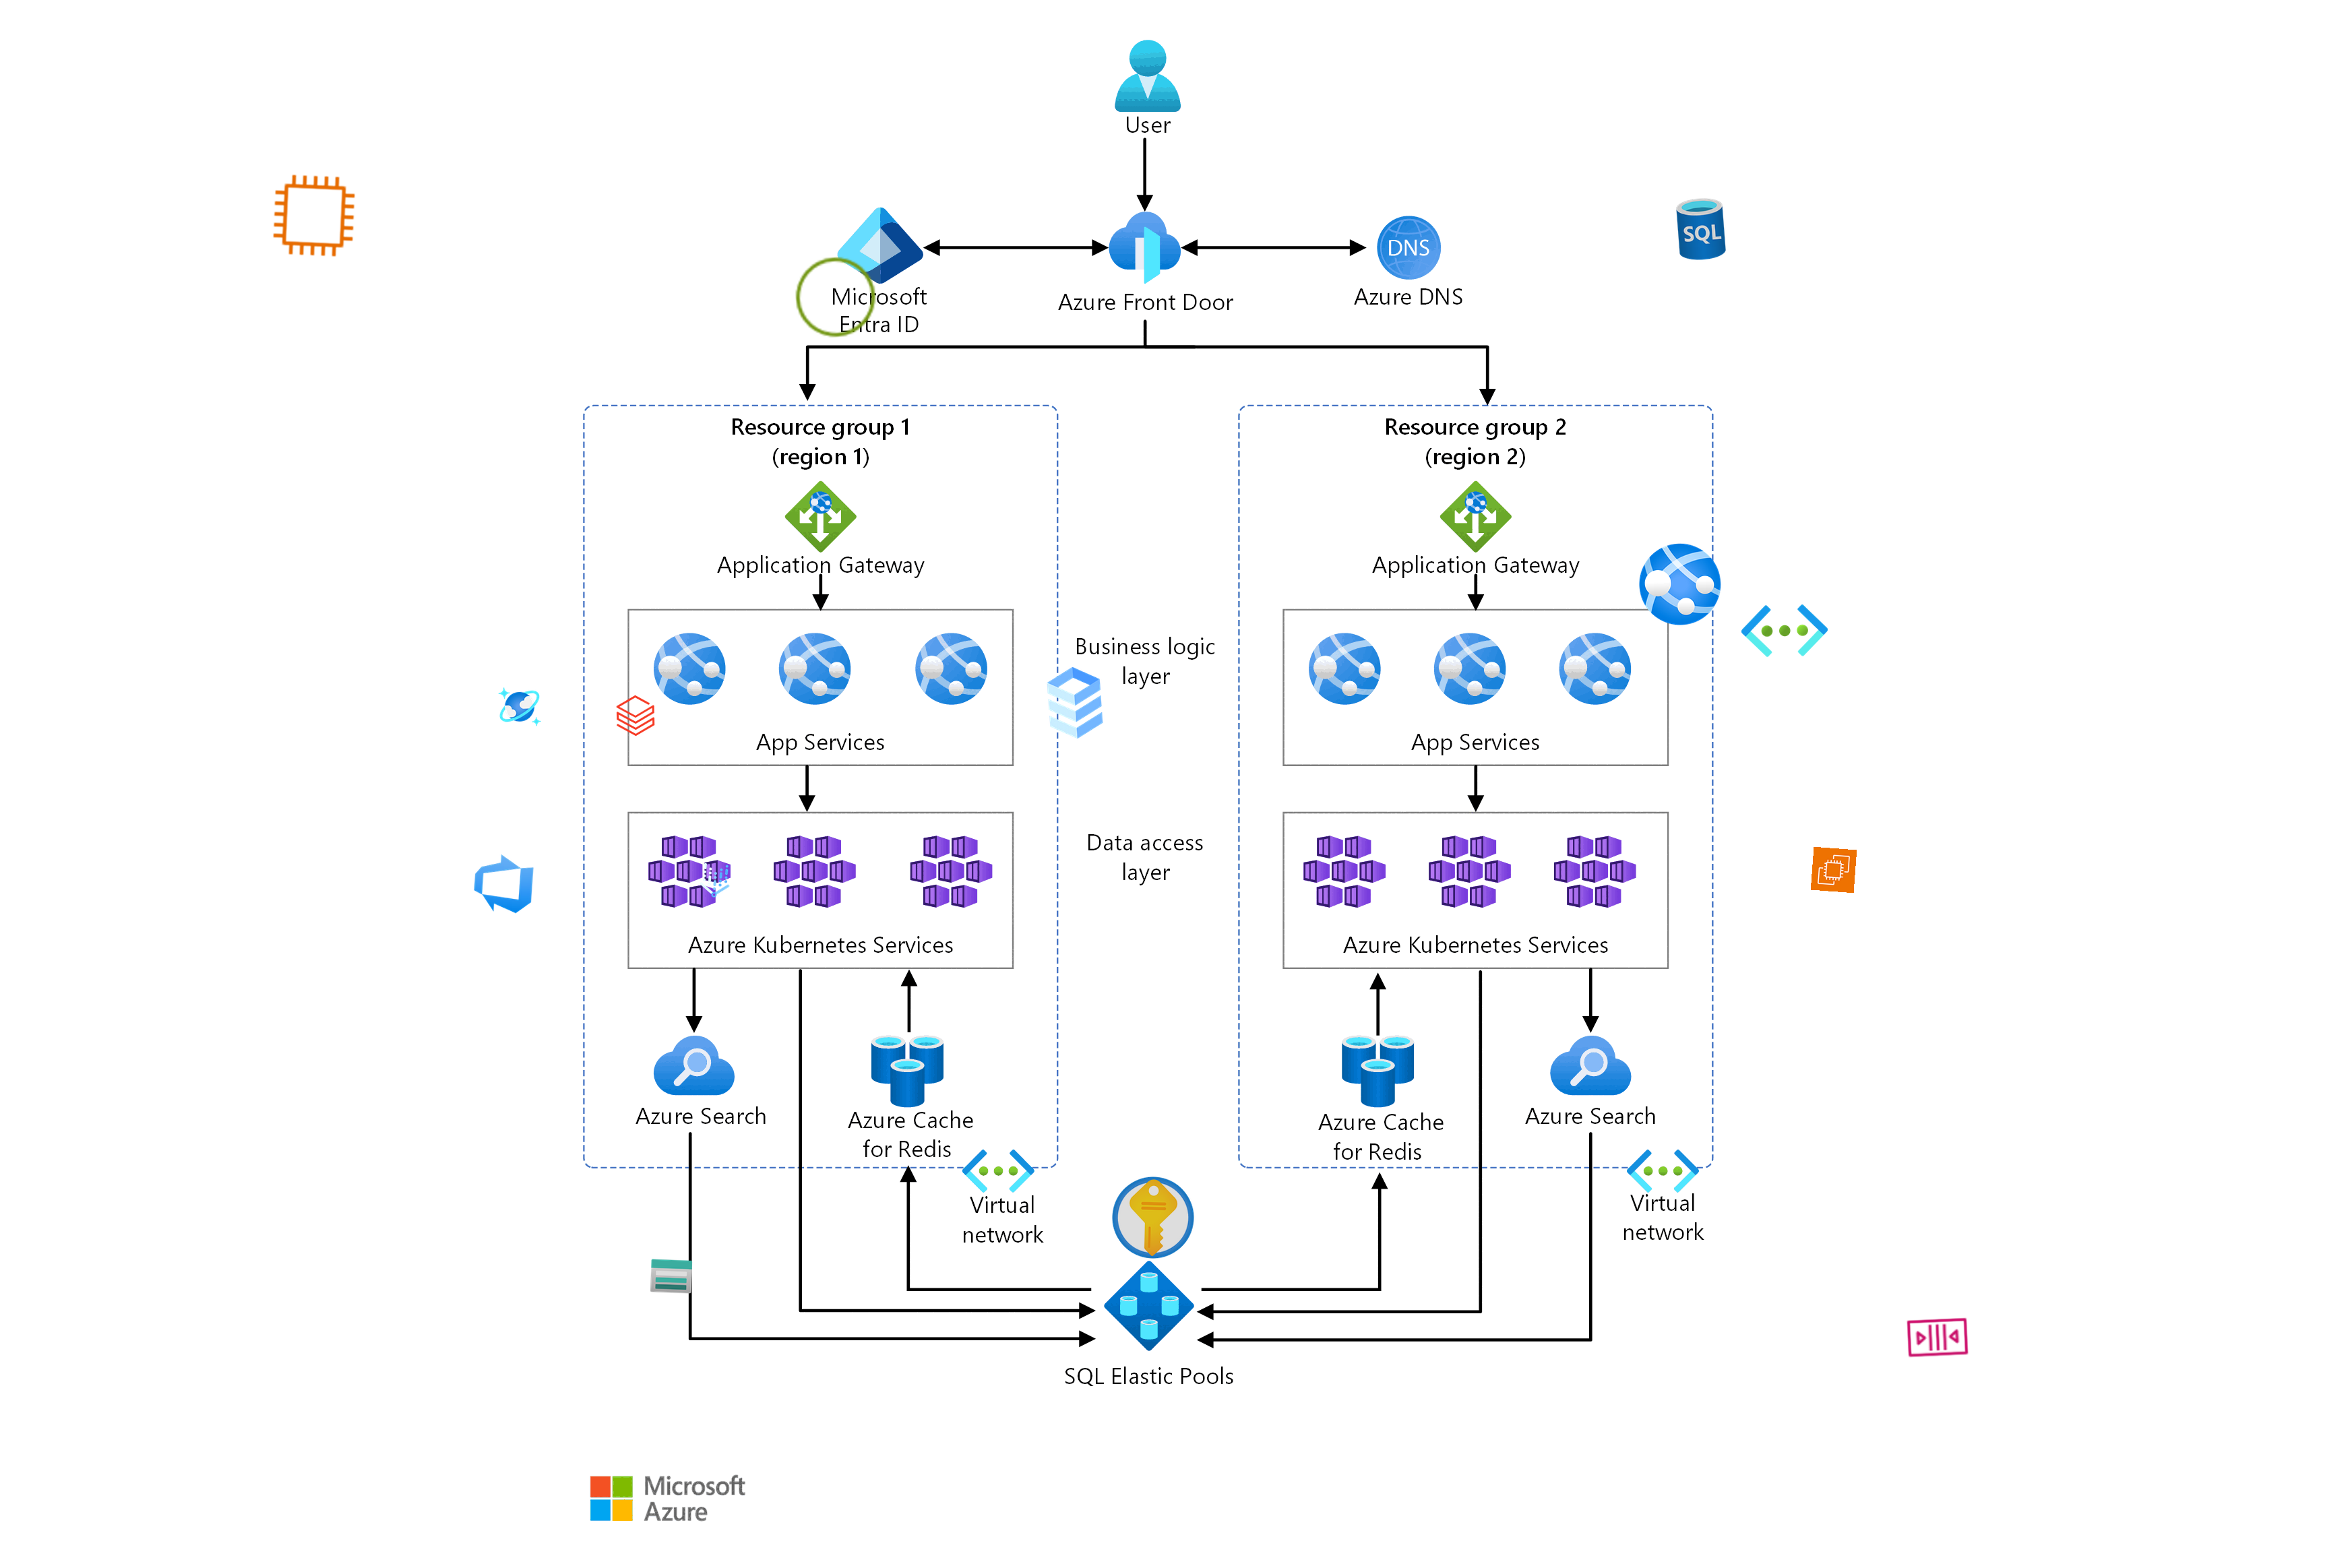aws_amazon_ec2: (1809, 847, 1857, 894)
aws_ec2_instance: (269, 170, 359, 261)
aws_simple_queue_service_queue: (1904, 1302, 1972, 1372)
aws_simple_storage_service_object: (789, 252, 882, 343)
azure_app_services: (1636, 539, 1724, 628)
azure_cosmos_db: (497, 684, 542, 730)
azure_databricks: (612, 693, 658, 739)
azure_devops: (469, 849, 539, 919)
azure_key_vaults: (1108, 1172, 1197, 1262)
azure_sql_database: (1666, 194, 1736, 264)
azure_storage_accounts: (647, 1253, 695, 1298)
azure_virtual_networks: (1739, 586, 1829, 676)
gcp_cloud_sql: (1029, 656, 1122, 749)
gcp_vertex_ai: (691, 857, 738, 905)
